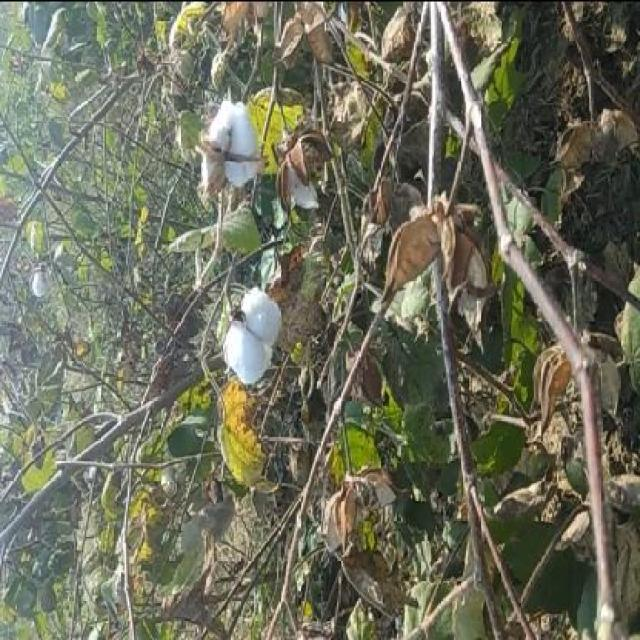cotton_ready: (179, 86, 290, 222), (210, 253, 290, 438)
